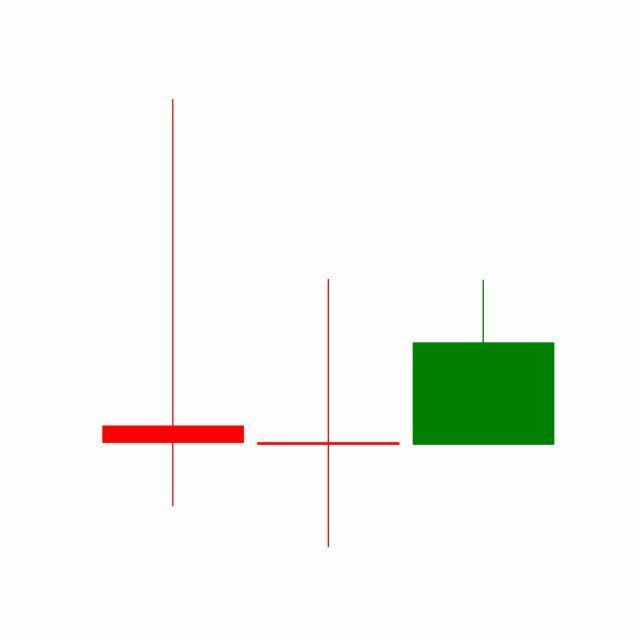Spinning Top: (250, 276, 407, 551)
